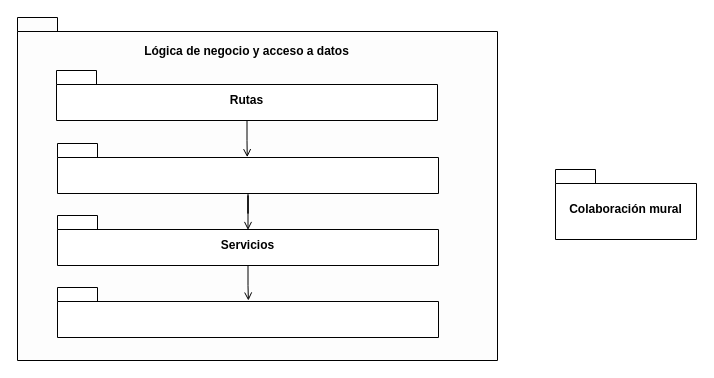
The diagram is 714 pixels wide and 378 high, and some of its shapes have lost their labels. The box of each missing label's shape, as (x1, y1, x2, y2) in pixels:
Controladores: (56, 142, 438, 194)
Persistencia: (56, 286, 438, 338)
